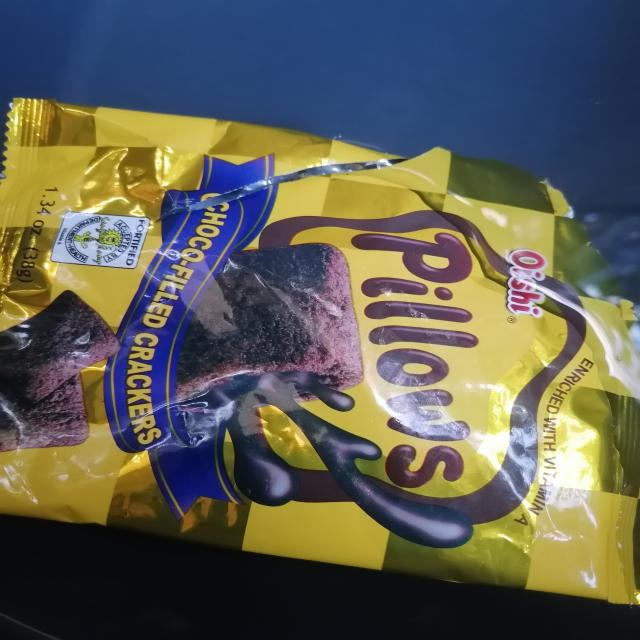Plastic Wrapper: (0, 98, 640, 640)
